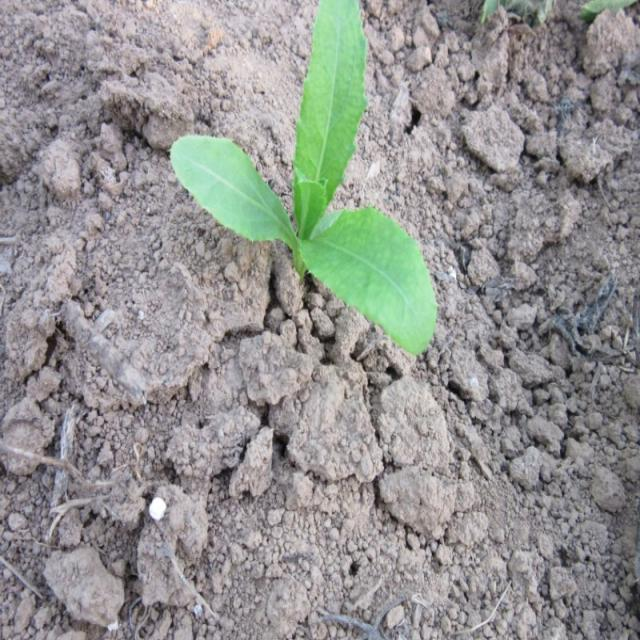cs: (170, 1, 438, 357)
